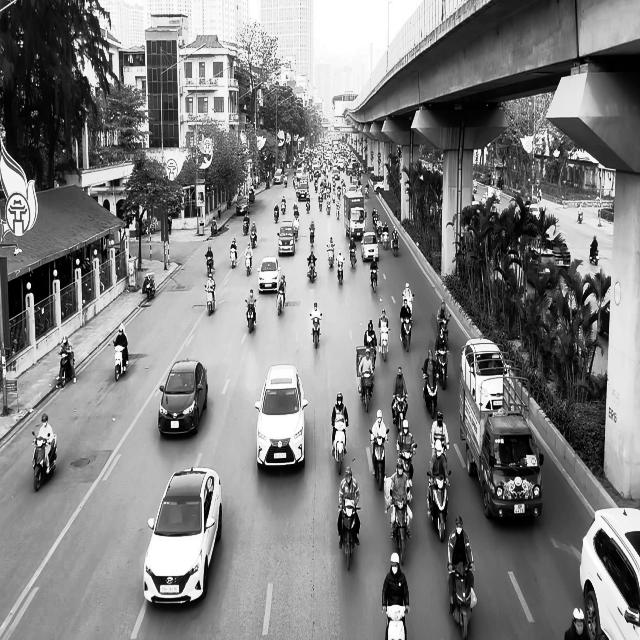car: (144, 466, 222, 607), (579, 506, 640, 639), (254, 364, 308, 470), (158, 358, 208, 436), (257, 256, 281, 293), (360, 231, 379, 261), (236, 196, 249, 215)
motorbike: (448, 561, 477, 639), (426, 469, 451, 542), (388, 495, 412, 566), (31, 430, 57, 492), (338, 501, 359, 570), (369, 428, 389, 491), (331, 418, 348, 475), (382, 604, 408, 640), (55, 351, 76, 388), (358, 368, 374, 412), (423, 372, 438, 418), (392, 394, 408, 432), (113, 341, 128, 381), (434, 348, 448, 390), (309, 314, 322, 348), (400, 316, 412, 351), (244, 299, 256, 333), (204, 284, 216, 316), (379, 328, 390, 362), (144, 273, 156, 301), (276, 284, 286, 316), (306, 253, 316, 282), (348, 241, 357, 268), (370, 265, 378, 292), (589, 244, 599, 265), (205, 253, 213, 276), (245, 250, 252, 276), (337, 258, 344, 284), (391, 234, 399, 256), (327, 245, 334, 268), (230, 246, 237, 268), (210, 218, 218, 236)
truck: (458, 337, 544, 520)
